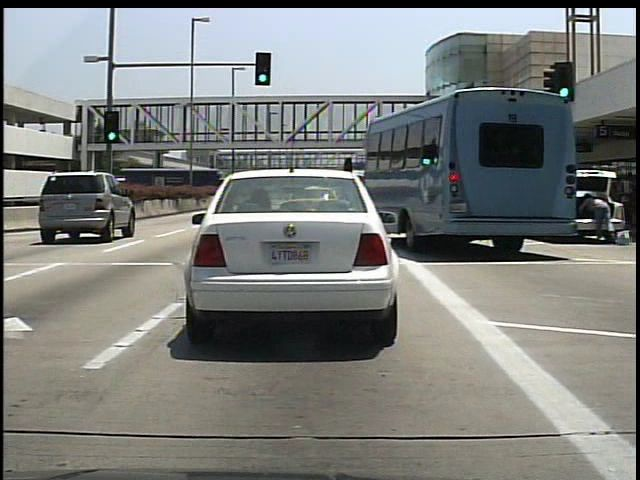person: (583, 186, 617, 249)
